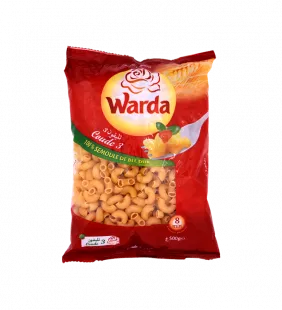LA ROSE BLANCHE: (53, 36, 228, 268)
